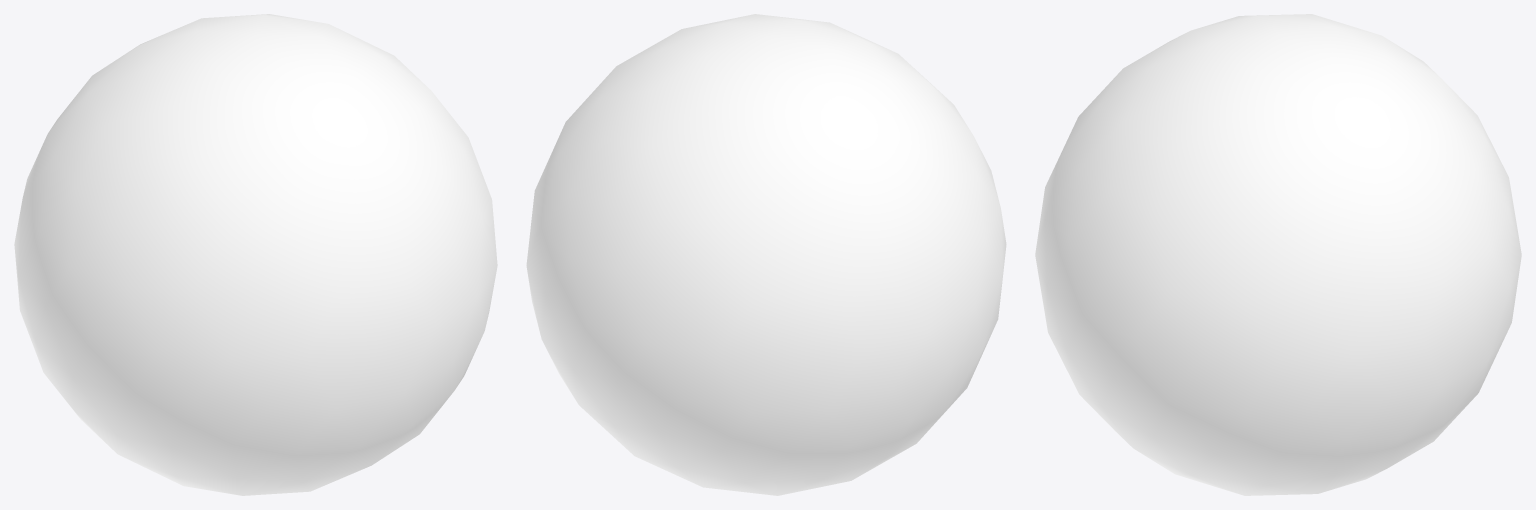
File: si_eos_9900.glb
3 views of the same model, side by side, from view 1: azimuth 30°, elevation 25°; view 2: azimuth 150°, elevation 25°; view 3: azimuth 270°, elevation 25° (orthographic).
Visible parts, largest first — view 1: layer_00_si_eos_9900; view 2: layer_00_si_eos_9900; view 3: layer_00_si_eos_9900.
Boxes of the visible parts, x1,y1,x2,y2 form: layer_00_si_eos_9900: [14, 14, 497, 495]; layer_00_si_eos_9900: [526, 14, 1006, 495]; layer_00_si_eos_9900: [1035, 14, 1521, 495].
Bounding box in the file's own units: 40 × 40 × 40.
1 material, 1 textured.
